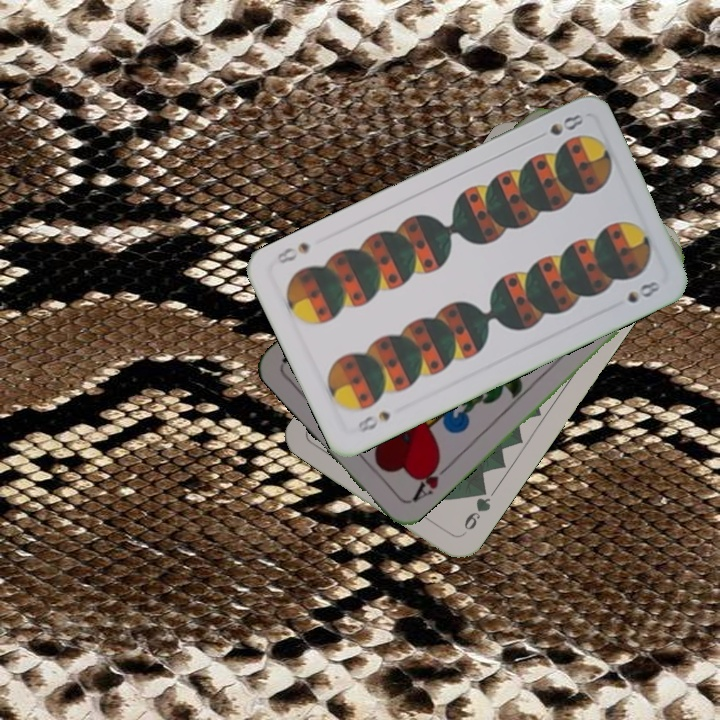G9: (457, 482, 494, 539)
HA: (406, 454, 454, 505)
S8: (545, 110, 586, 138), (354, 406, 393, 435)
